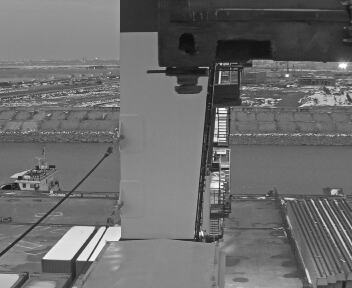twist_lock_1: (157, 58, 215, 98)
